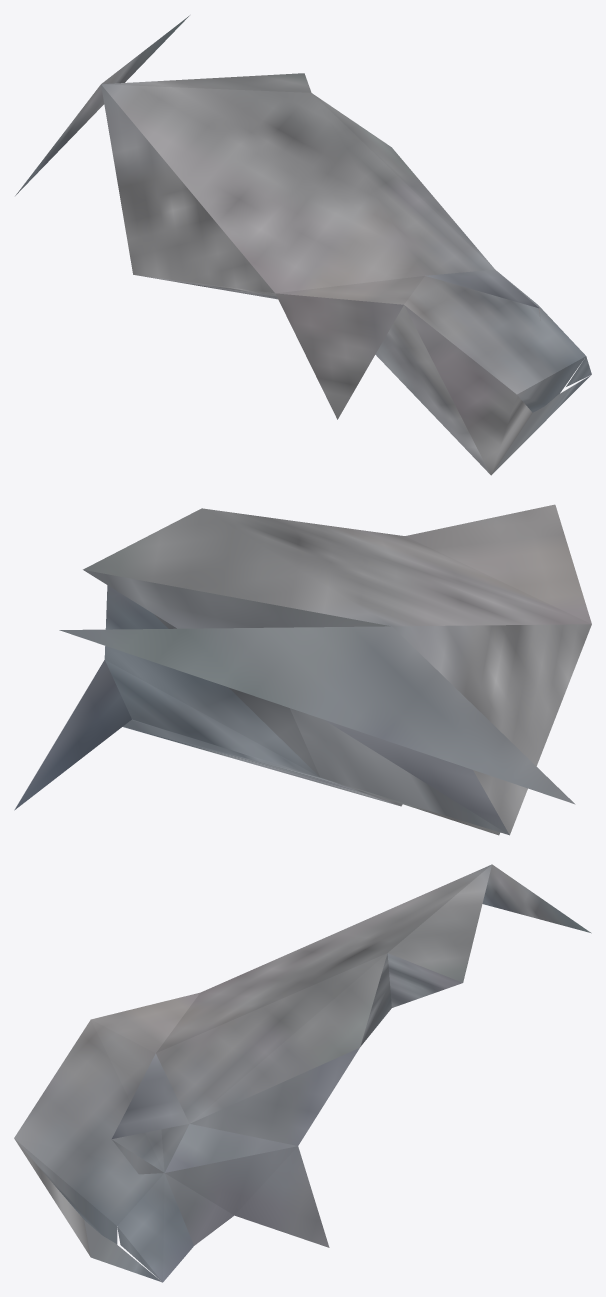
3 renders of one model, top to bottom at view 1: azimuth 30°, elevation 25°; view 2: azimuth 150°, elevation 25°; view 3: azimuth 270°, elevation 25°, orthographic. The views are drawn at different scales.
Size of the model in its own units: 17.69 by 11.7 by 20.57.
Materials: 1 (1 with a texture image).
